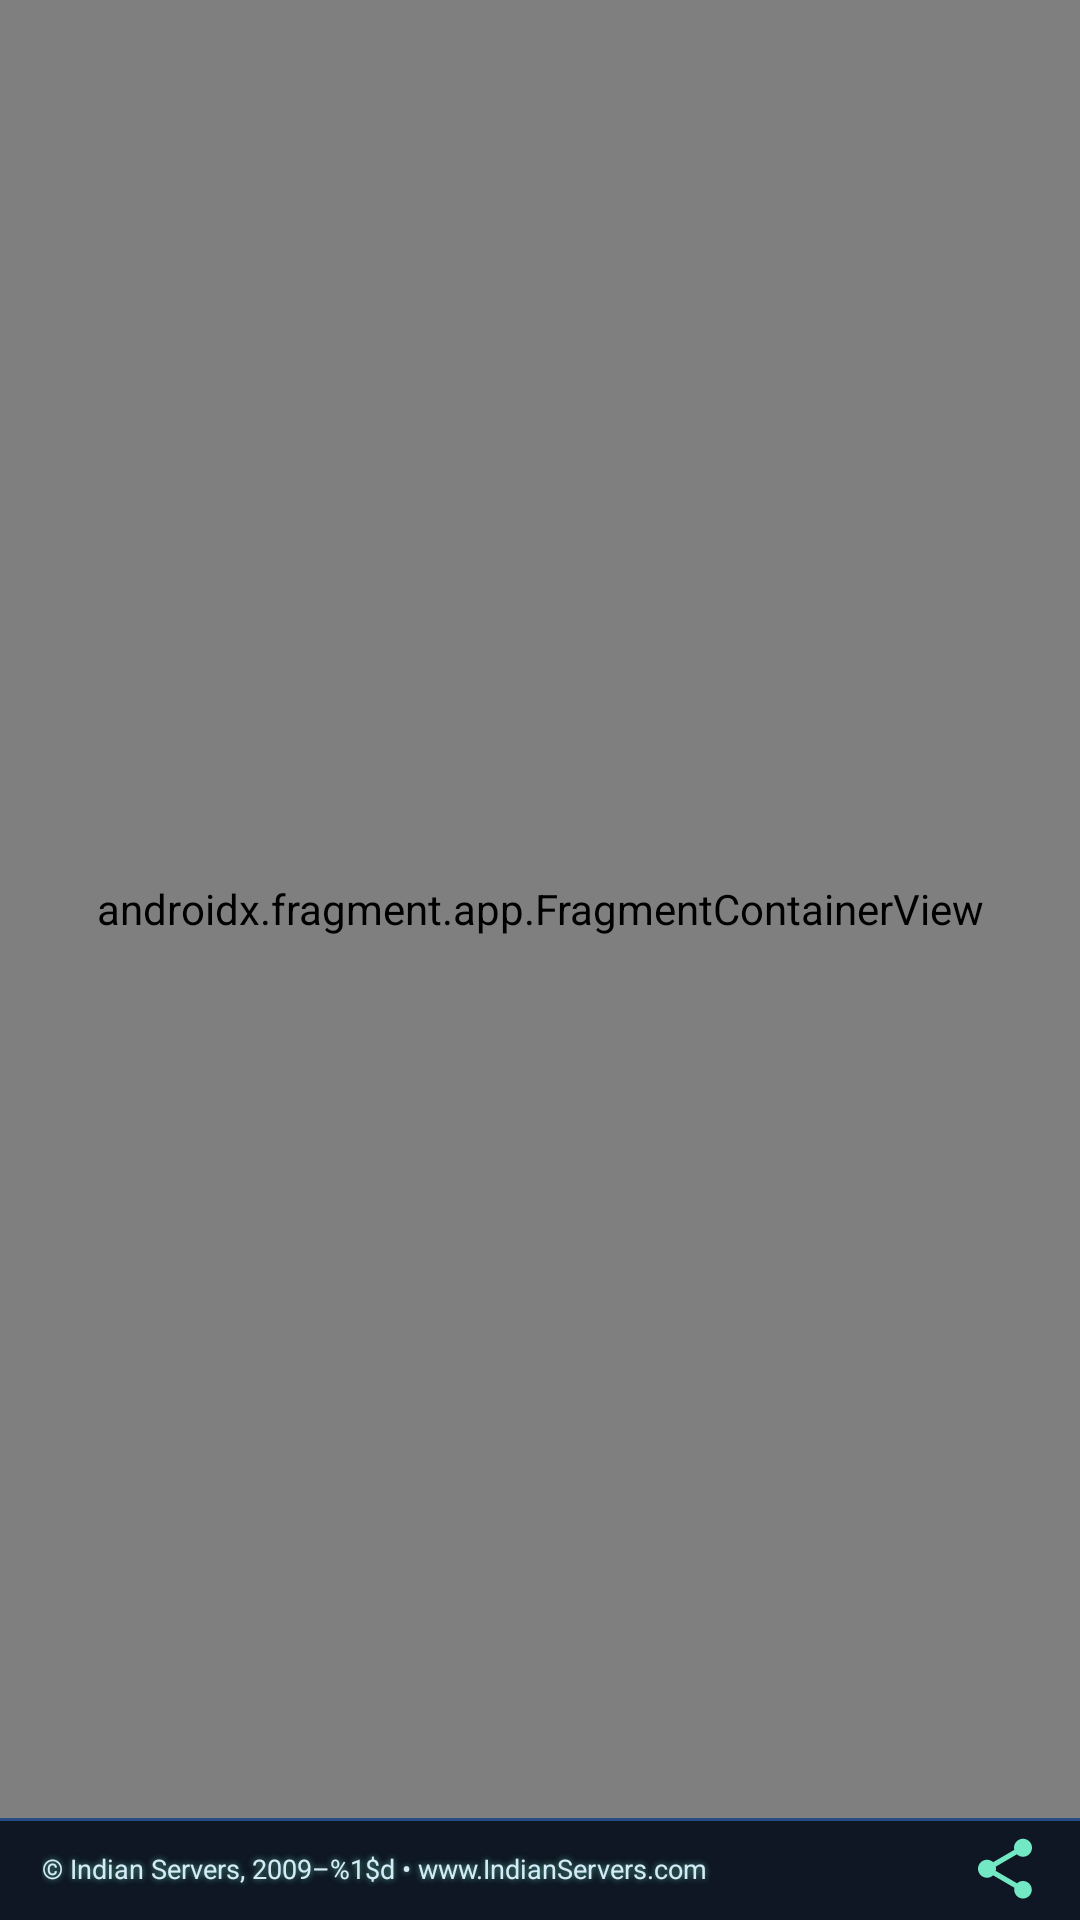

Point at icon controls on the screen. Image size 1080px×1920px, points as (x,y).
Share AI Explorer Biology: (1005,1868)
